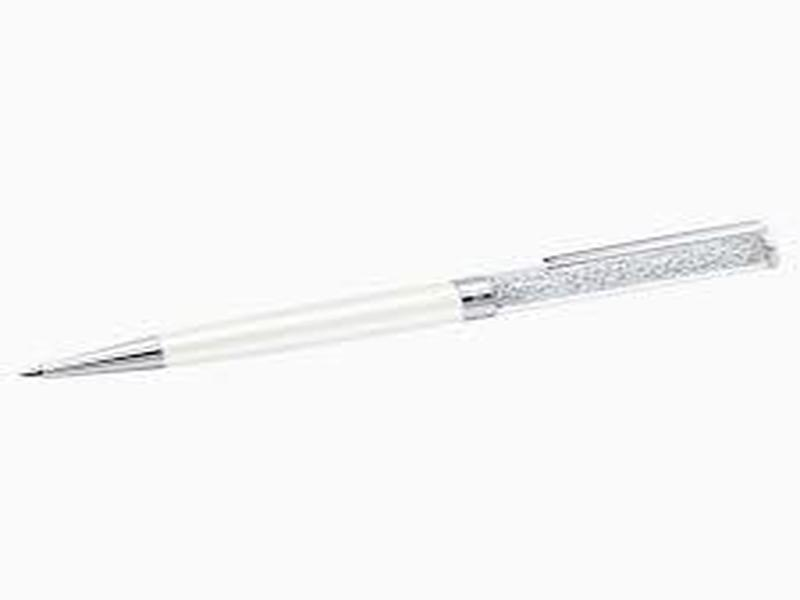qillqana: (14, 174, 784, 439)
